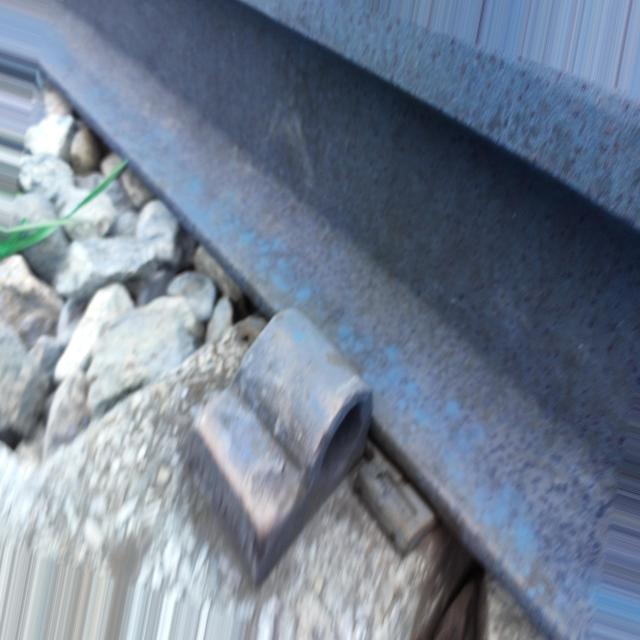Missing Fastener: (115, 262, 456, 621)
